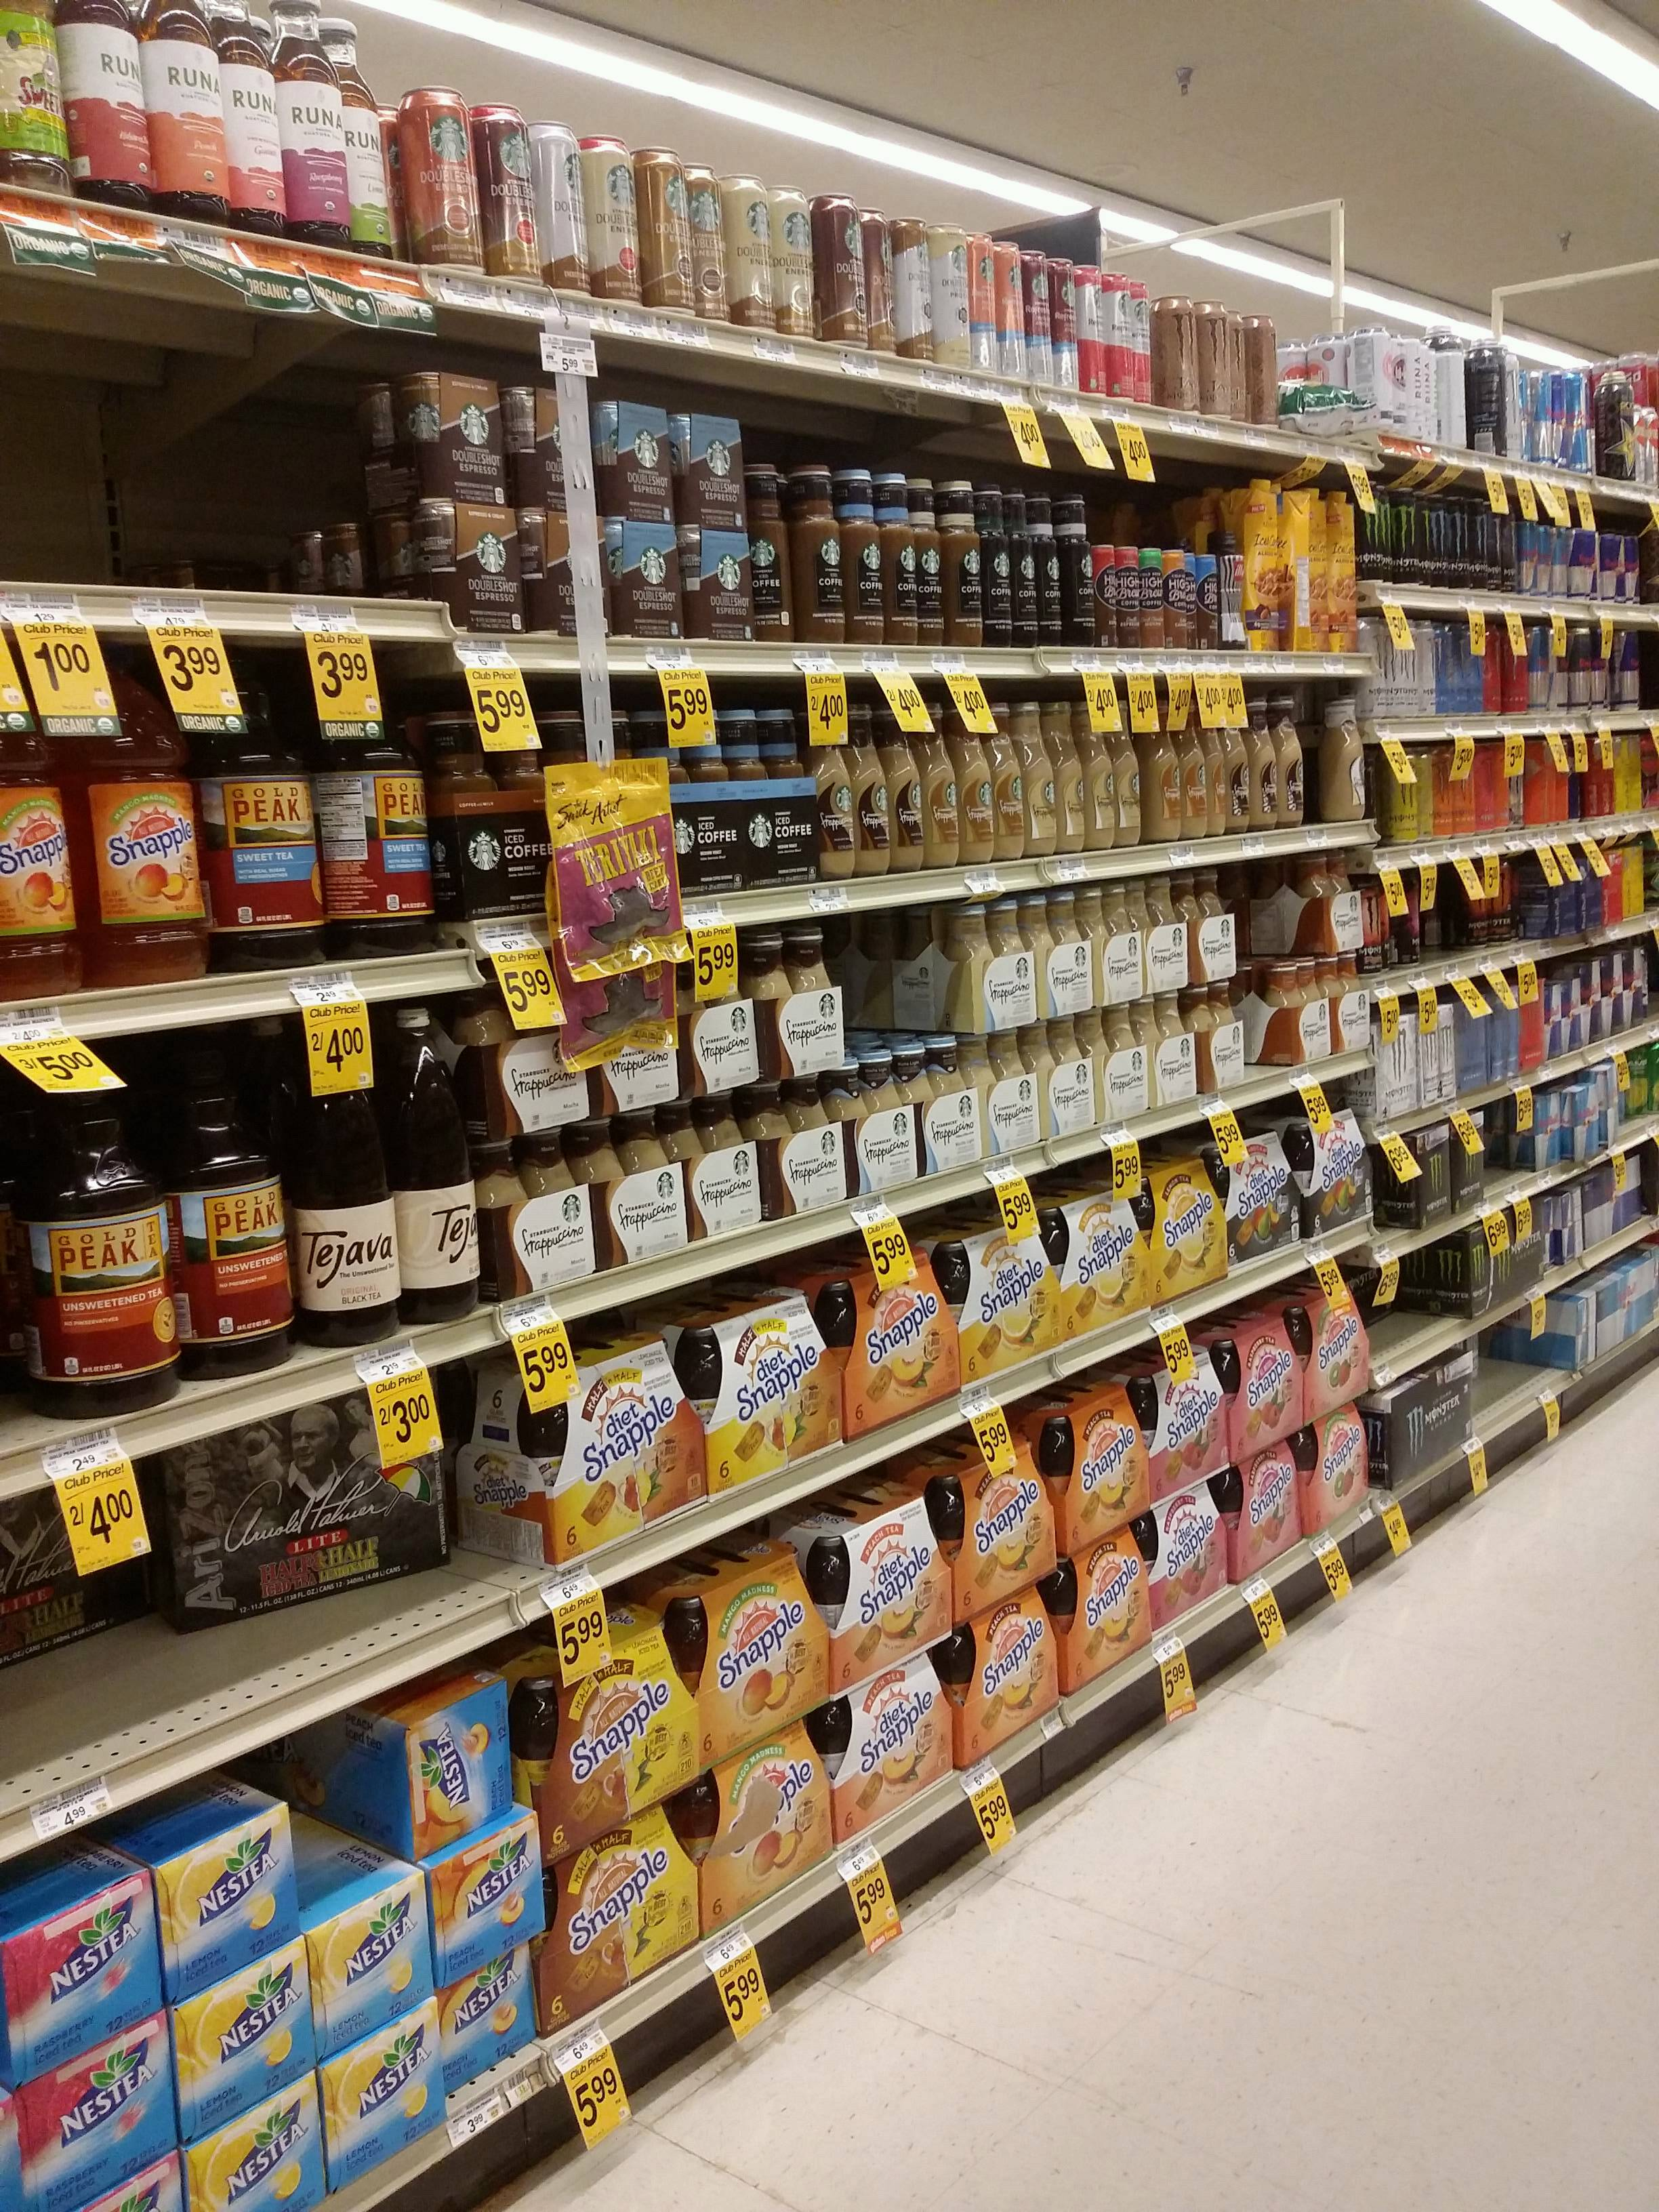Misplacement: (145, 1366, 500, 1665), (842, 909, 972, 1223), (1354, 1228, 1471, 1376), (1455, 1296, 1579, 1433)
Out-of-stock: (16, 334, 397, 648), (1241, 873, 1302, 1099), (1485, 1096, 1537, 1200)
